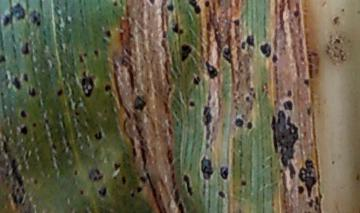tarspot: (270, 110, 300, 180), (3, 155, 28, 208), (298, 159, 317, 197), (1, 3, 27, 28), (200, 105, 213, 141), (80, 68, 94, 98), (199, 155, 215, 181), (181, 173, 195, 197), (204, 59, 220, 79), (178, 42, 193, 62), (258, 42, 273, 59), (88, 167, 105, 182), (28, 9, 42, 27), (133, 95, 146, 113), (187, 1, 202, 15), (222, 46, 233, 64), (171, 22, 185, 35), (217, 165, 229, 180), (10, 76, 22, 91), (20, 42, 32, 56), (245, 33, 256, 48), (26, 85, 38, 98), (281, 100, 295, 111), (1, 139, 10, 154), (96, 186, 108, 197), (191, 75, 202, 86), (92, 130, 103, 141), (18, 125, 29, 136), (234, 117, 244, 129), (312, 195, 321, 207), (296, 184, 305, 195), (245, 119, 253, 131), (271, 53, 279, 65), (22, 71, 29, 84), (1, 53, 8, 66), (19, 109, 28, 119), (112, 162, 122, 171), (137, 175, 147, 184), (301, 78, 310, 88), (217, 190, 226, 199), (232, 18, 241, 27), (165, 4, 175, 12), (77, 55, 85, 65), (286, 88, 293, 99), (239, 40, 246, 51), (120, 174, 127, 185), (104, 83, 112, 92), (56, 88, 64, 97), (135, 185, 143, 194), (103, 29, 112, 37), (307, 198, 314, 208), (91, 48, 99, 56), (128, 190, 135, 199), (31, 178, 38, 187), (306, 107, 312, 117), (100, 37, 108, 44), (248, 85, 255, 93), (251, 91, 257, 100), (188, 100, 195, 107), (30, 122, 38, 128), (73, 169, 79, 177), (240, 180, 247, 186), (204, 1, 210, 8), (78, 189, 85, 195), (112, 1, 118, 8), (147, 1, 157, 5), (244, 95, 250, 101), (82, 52, 89, 56)
